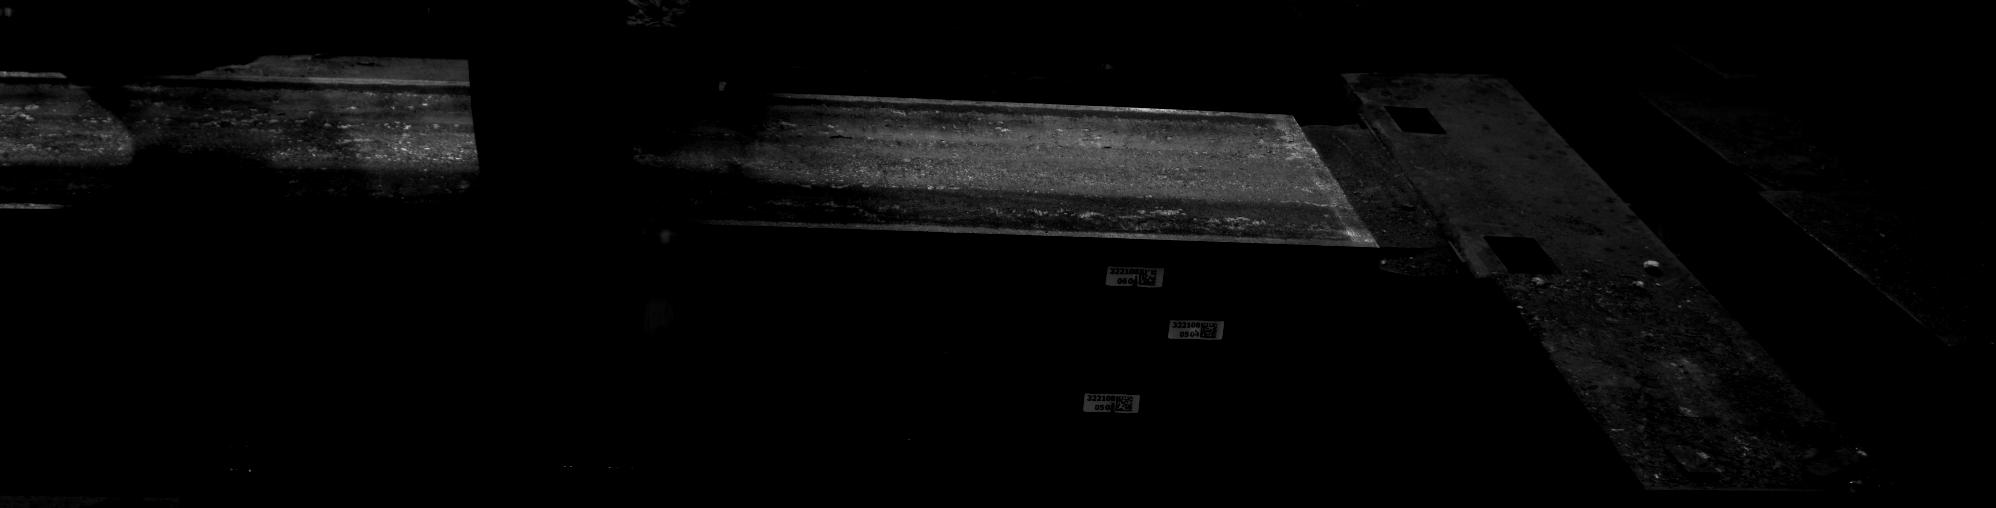data matrix: (1116, 396, 1135, 414), (1139, 269, 1158, 286), (1200, 322, 1219, 340)
